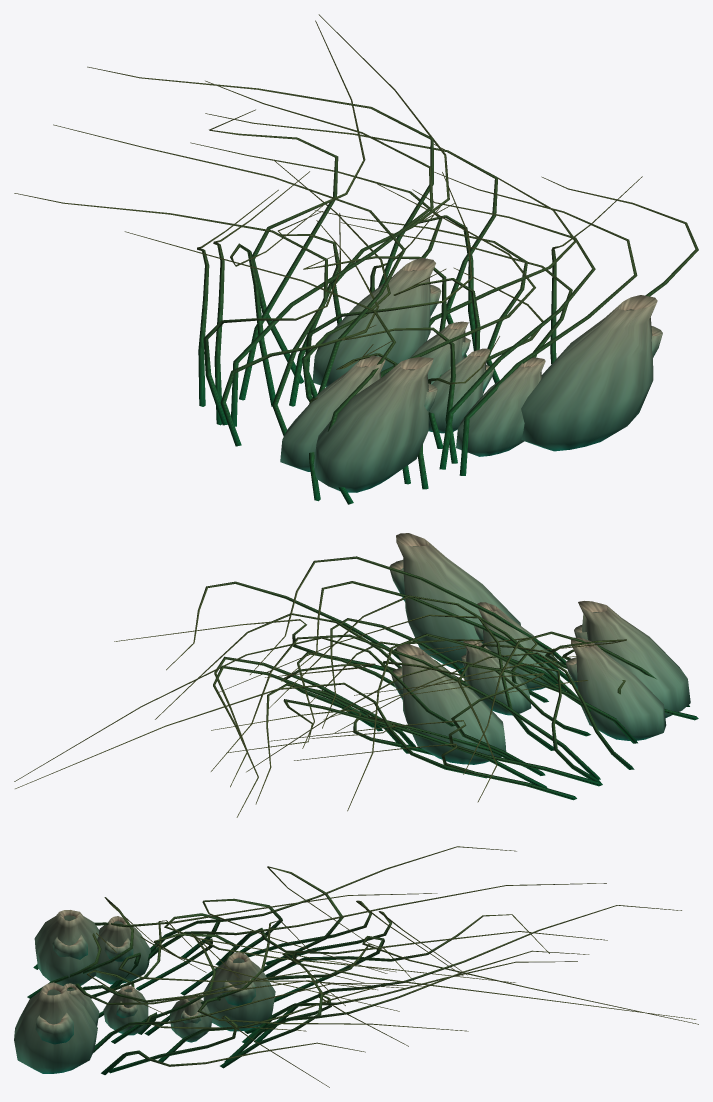
The model's file is filaments-ascidians.glb.
The picture shows the model from 3 angles, top to bottom: view 1: azimuth 30°, elevation 25°; view 2: azimuth 150°, elevation 25°; view 3: azimuth 270°, elevation 25°; orthographic projection. The views are drawn at different scales.
Visible parts, largest first — view 1: LOD0; view 2: LOD0; view 3: LOD0.
Part boxes in pixels (<box>): LOD0: <box>14,14,698,504</box>; LOD0: <box>14,533,698,817</box>; LOD0: <box>14,846,698,1087</box>.
Size of what is drawn, in the model's own units: 0.3519 by 0.0966 by 0.4785.
1 material, 1 textured.
